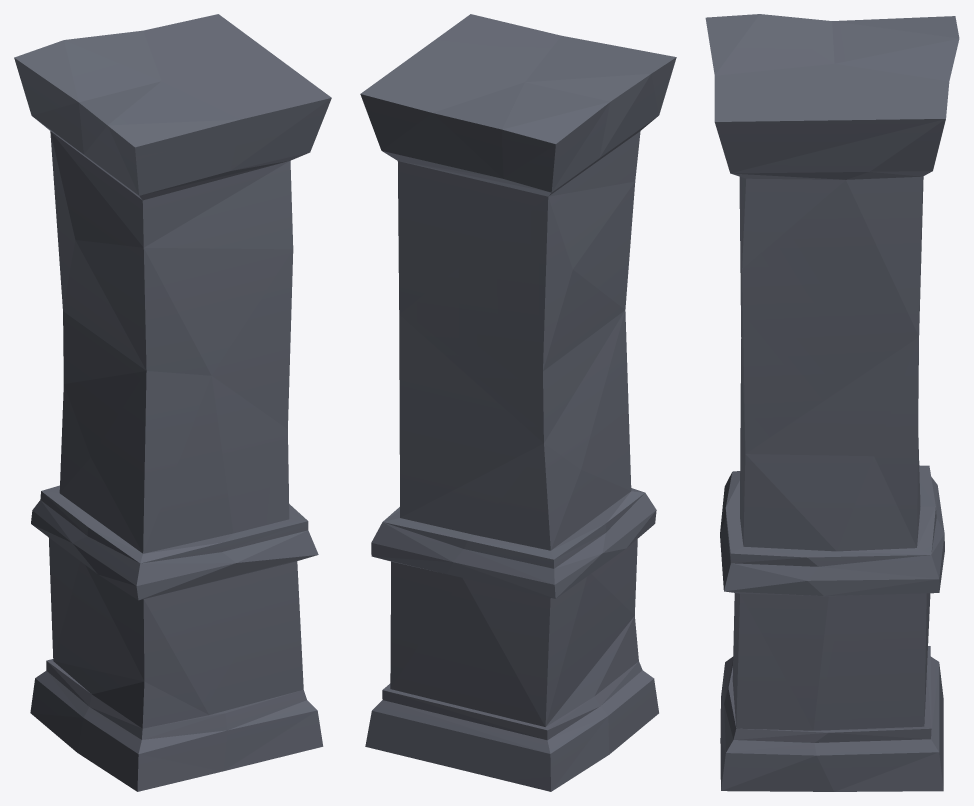
The model's file is Ruins_02.fbx.
3 renders of one model, left to right at view 1: azimuth 30°, elevation 25°; view 2: azimuth 150°, elevation 25°; view 3: azimuth 270°, elevation 25°, orthographic. The views are drawn at different scales.
Visible parts, largest first — view 1: Ruins_02; view 2: Ruins_02; view 3: Ruins_02.
Part boxes in pixels (<box>): Ruins_02: <box>14,14,331,791</box>; Ruins_02: <box>360,14,676,791</box>; Ruins_02: <box>705,14,959,791</box>.
Bounding box in the file's own units: 0.5364 × 1.68 × 0.5638.
